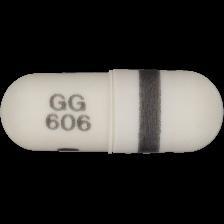63187-465: (0, 0, 224, 224)
